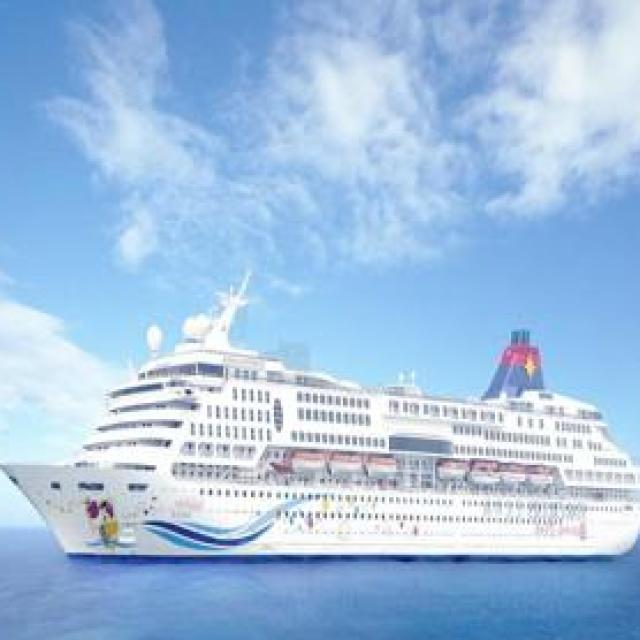passenger ship: (0, 290, 640, 578)
